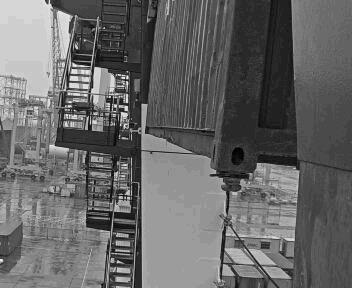twist_lock_1: (193, 167, 233, 196)
